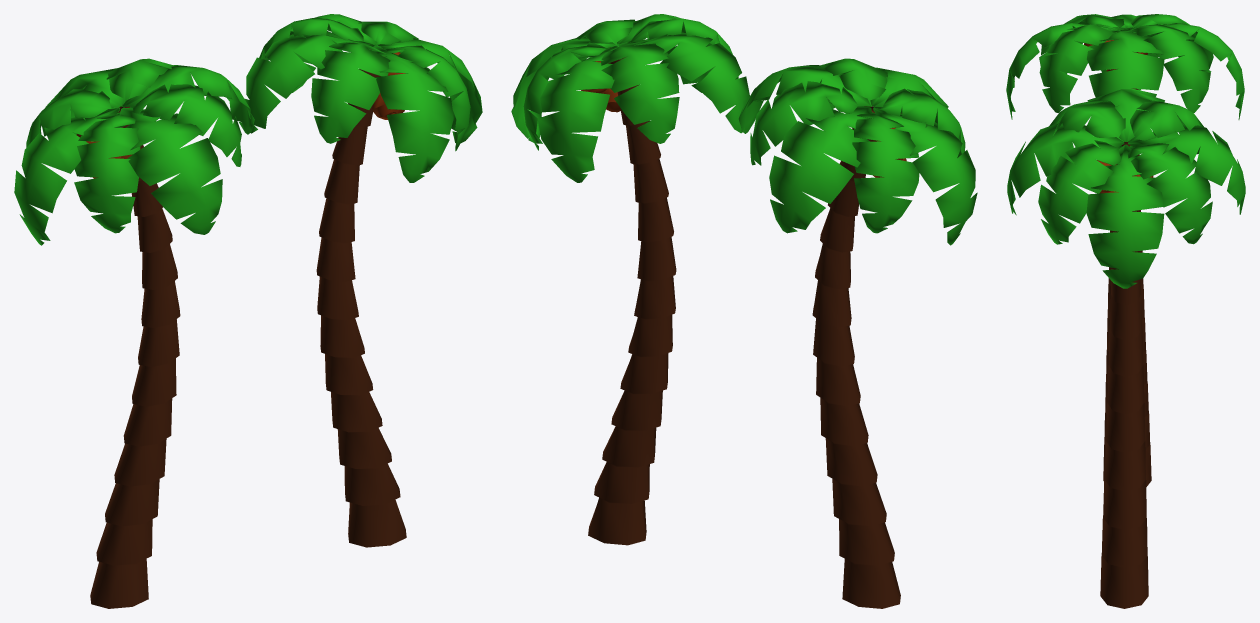
File: coqueiroduplo.fbx
3 views of the same model, side by side, from view 1: azimuth 30°, elevation 25°; view 2: azimuth 150°, elevation 25°; view 3: azimuth 270°, elevation 25° (orthographic). The views are drawn at different scales.
Parts seen in each view (by area): view 1: Cylinder.002; view 2: Cylinder.002; view 3: Cylinder.002.
Part boxes in pixels (<box>): Cylinder.002: <box>14,14,482,608</box>; Cylinder.002: <box>511,14,977,608</box>; Cylinder.002: <box>1006,14,1245,608</box>.
Size of the model in its own units: 1968 by 2154 by 990.
2 materials, 2 textured.
